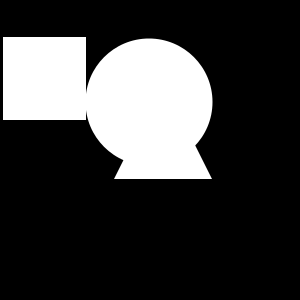circle: (3, 37, 86, 120)
rectangle: (85, 39, 212, 166)
triangle: (114, 81, 212, 179)
